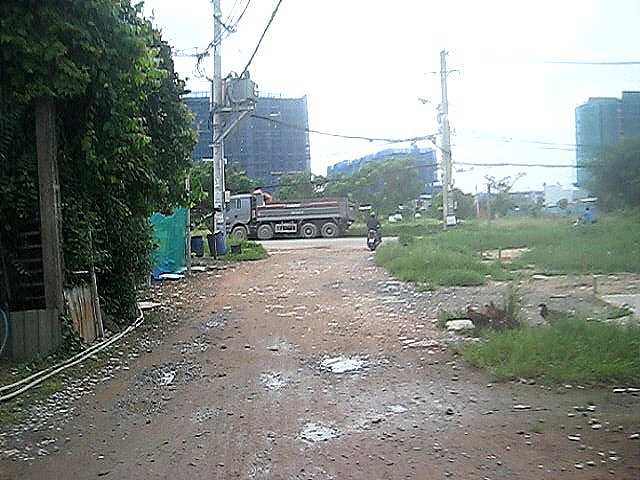hole: (303, 347, 384, 378), (138, 357, 193, 392), (290, 416, 349, 446), (115, 390, 168, 421), (253, 367, 291, 392), (379, 396, 418, 419), (172, 333, 214, 353), (198, 312, 232, 328), (265, 343, 285, 355), (241, 342, 256, 353), (218, 341, 231, 352)
